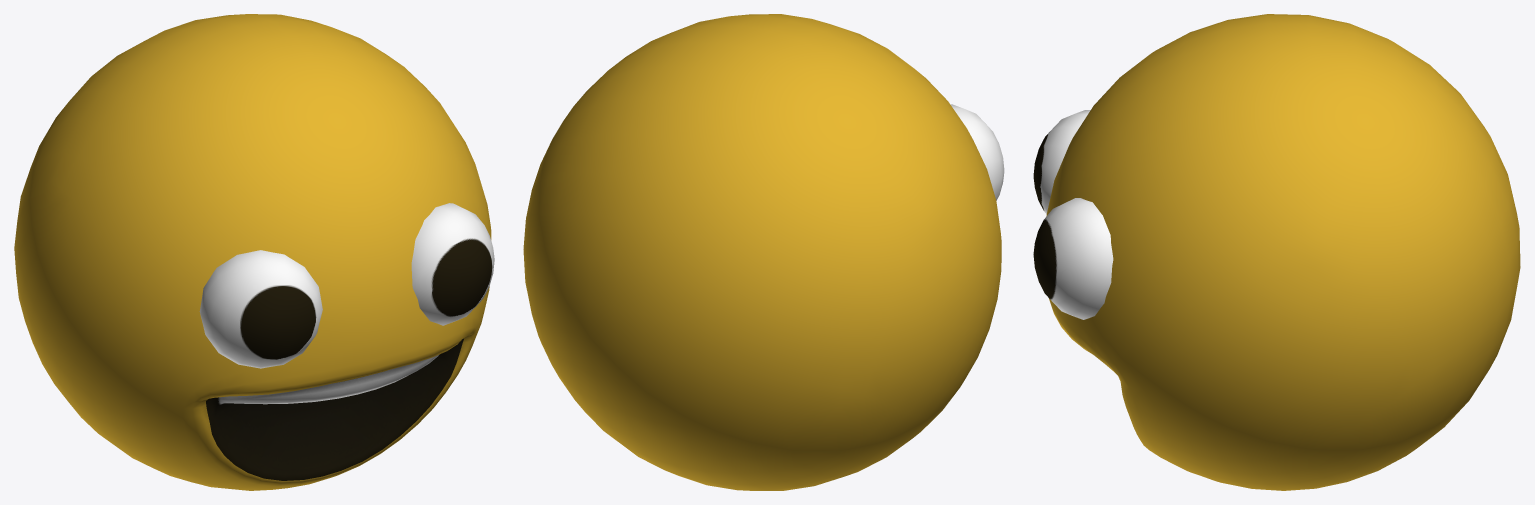
The model's file is emoji_smile.fbx.
The picture shows the model from 3 angles, left to right: view 1: azimuth 30°, elevation 25°; view 2: azimuth 150°, elevation 25°; view 3: azimuth 270°, elevation 25°; orthographic projection.
Parts seen in each view (by area): view 1: pSphere2; view 2: pSphere2; view 3: pSphere2.
Part boxes in pixels (<box>): pSphere2: <box>14,14,494,490</box>; pSphere2: <box>523,14,1004,490</box>; pSphere2: <box>1033,14,1520,490</box>.
Size of the model in its own units: 0.9952 by 0.9952 by 1.02.
Materials: 1 (1 with a texture image).
